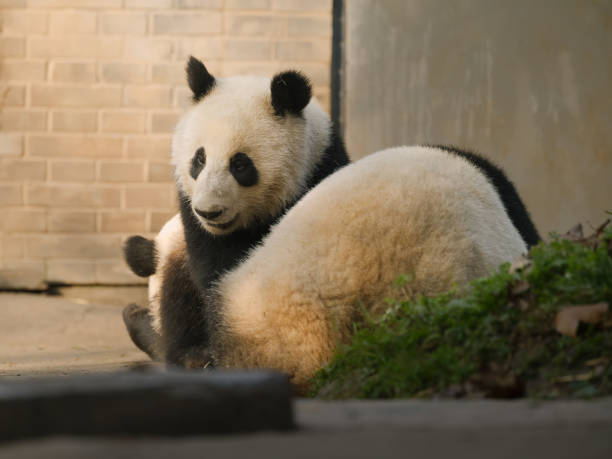panda: (135, 54, 331, 240)
